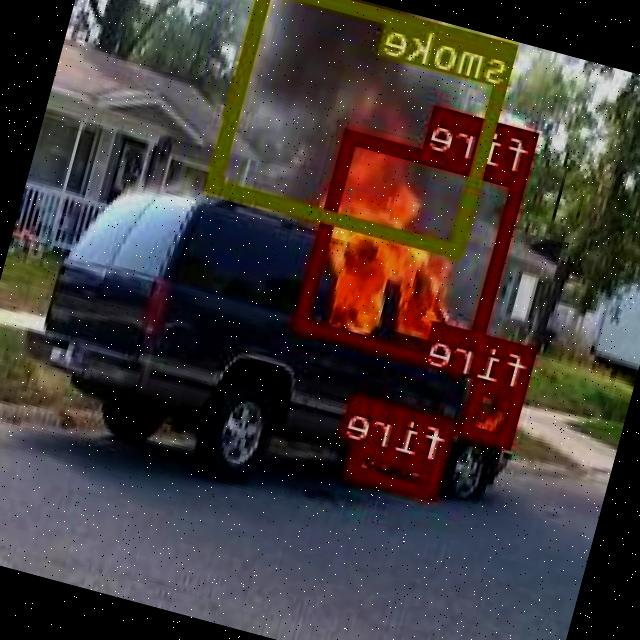fire: (296, 128, 529, 374), (350, 441, 444, 497), (462, 378, 528, 448)
smoke: (210, 0, 521, 257)
